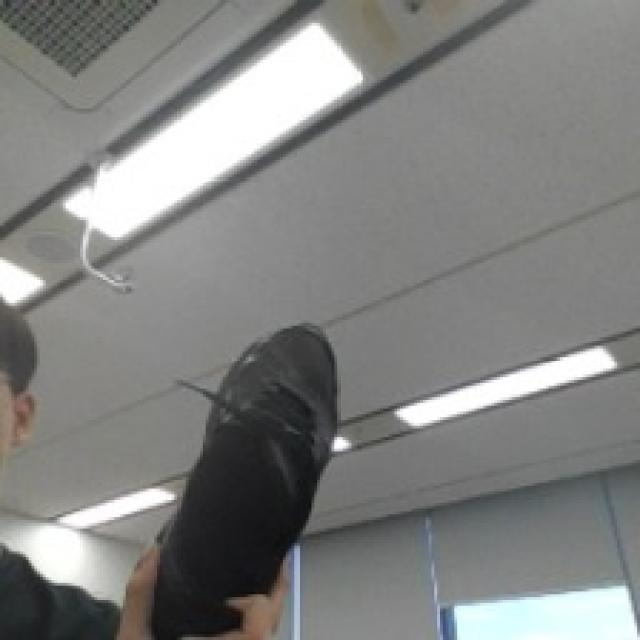shoe: (79, 278, 395, 604)
